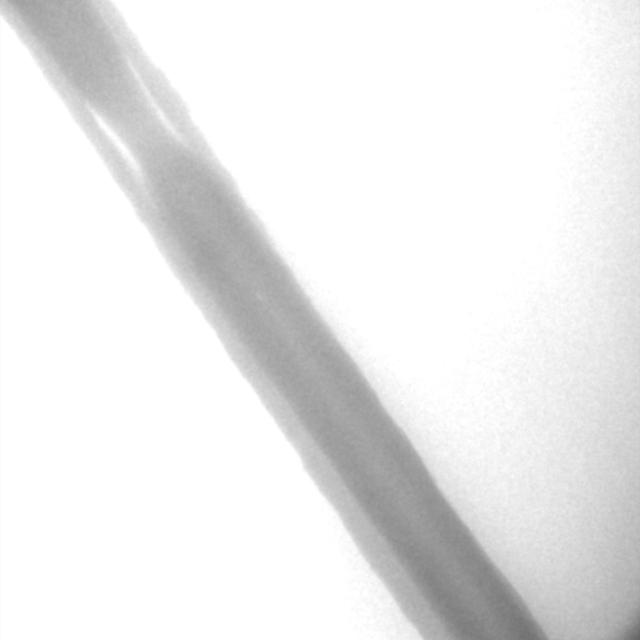unfused: (118, 0, 188, 144), (73, 93, 149, 217)
